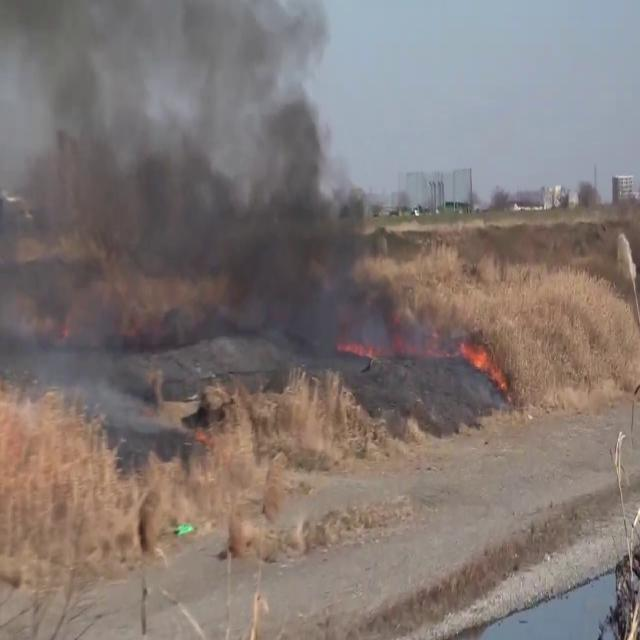Fire: (456, 334, 502, 386)
Smoke: (0, 1, 398, 418)
